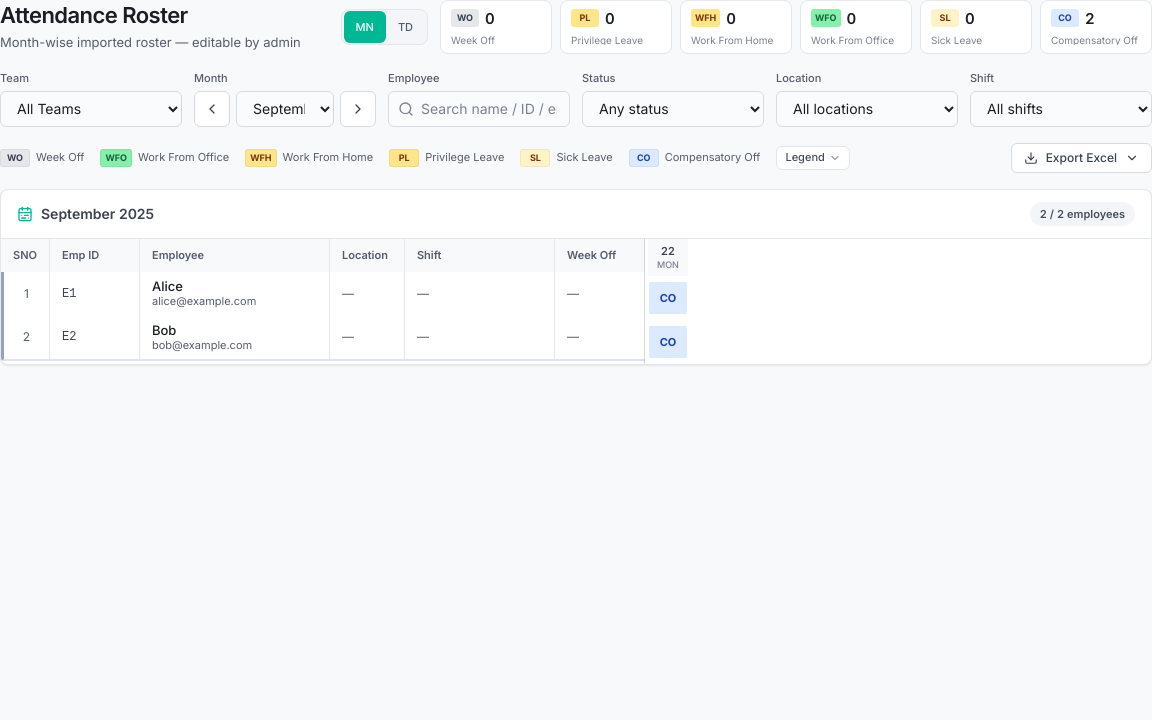
Test case: AdminRosterPage CO status detail › resolves the popup per employee so no details leak across employees
This screenshot has width=1152, height=720.
Check: the text "Bob" is shown, box x1=152 y1=322 x2=176 y2=338
Click the 2nd button "CO": x=668, y=342 x1=649 y1=326 x2=687 y2=358
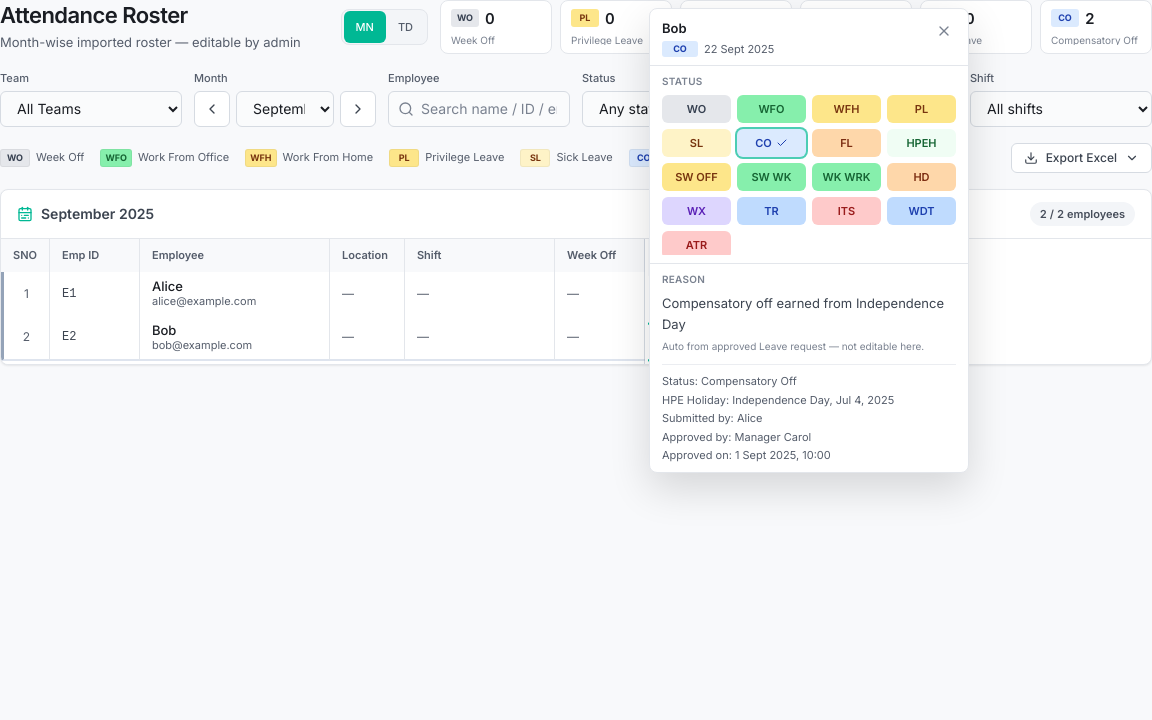
Check: the text "HPE Holiday: Independence Day, Jul 4, 2025" is shown, box x1=662 y1=393 x2=894 y2=407
Check: the text "Approved by: Manager Carol" is shown, box x1=662 y1=430 x2=811 y2=444
